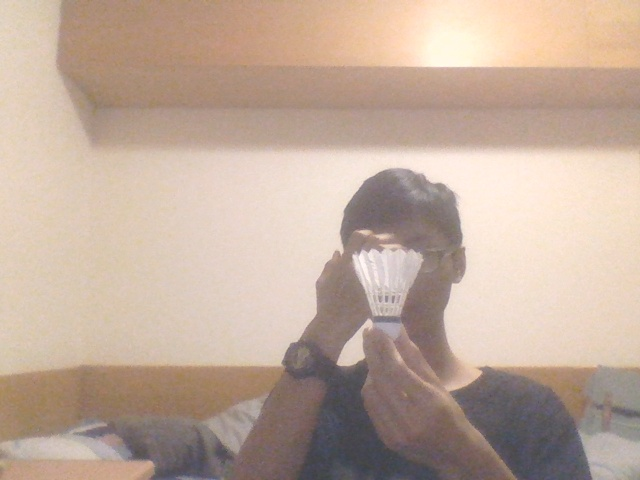human: (234, 168, 593, 480)
shuttle: (352, 247, 424, 339)
